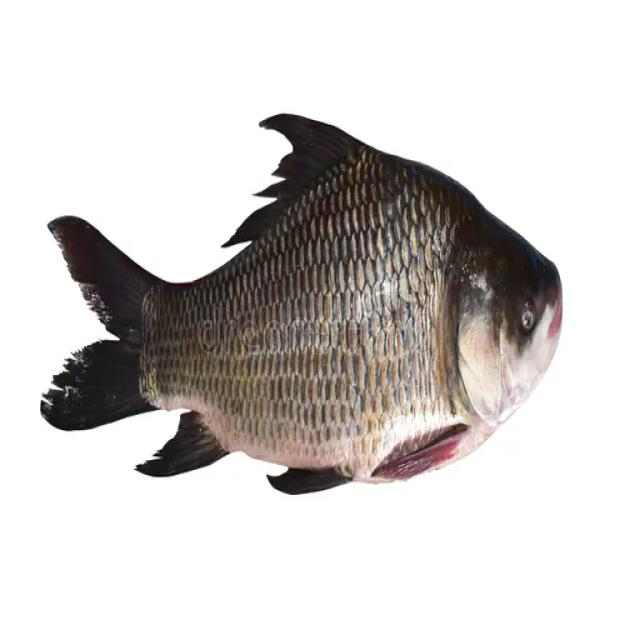Catla: (40, 112, 564, 496)
